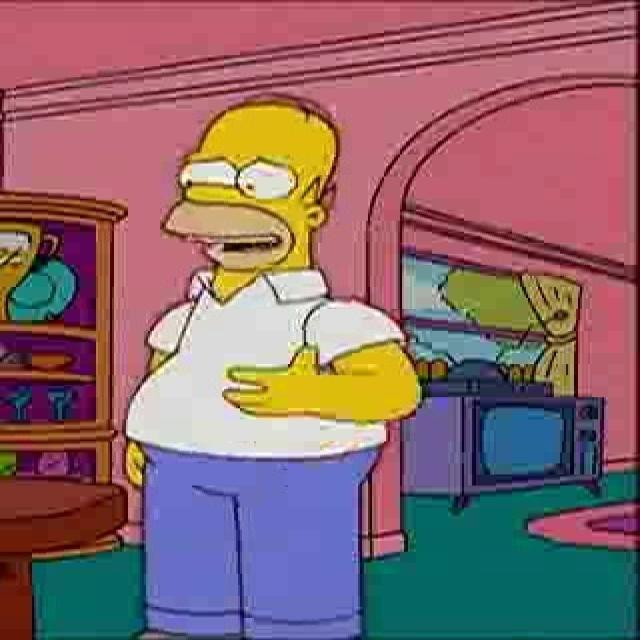Homer Simpson: (163, 89, 345, 278)
